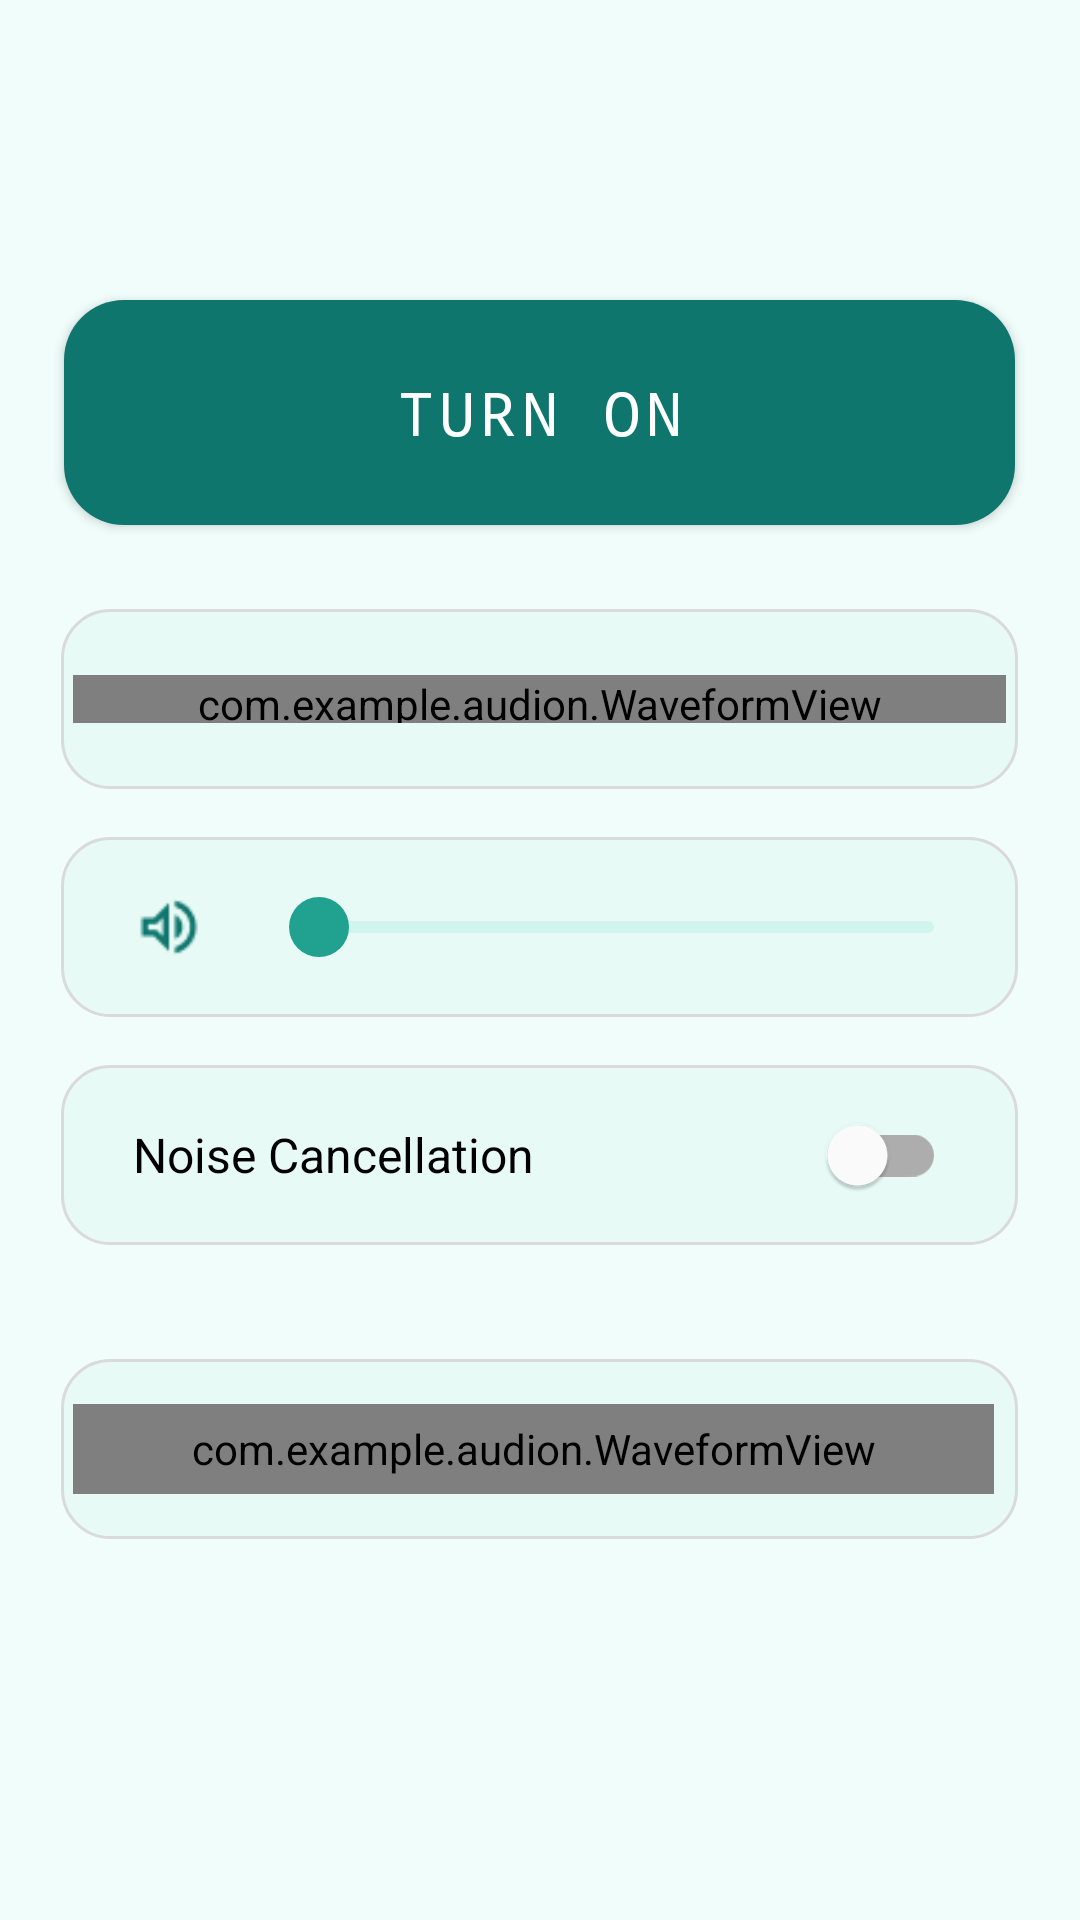

Point at icon controls on the screen. Image size 1080px×1920px, points as (x,y).
volume: (169,927)
